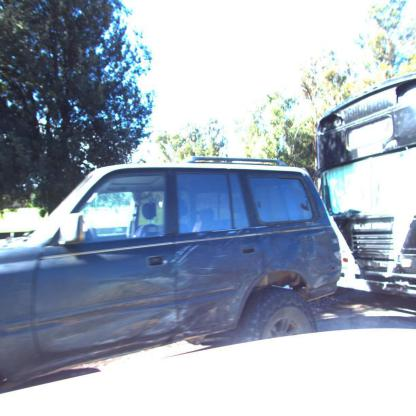bus: (0, 149, 356, 412), (314, 62, 416, 300)
